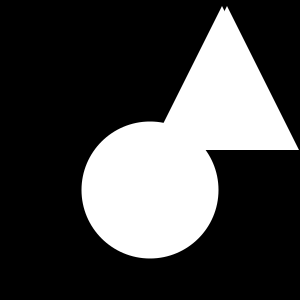rectangle: (82, 121, 218, 258)
triangle: (155, 6, 299, 150), (151, 6, 293, 148)
